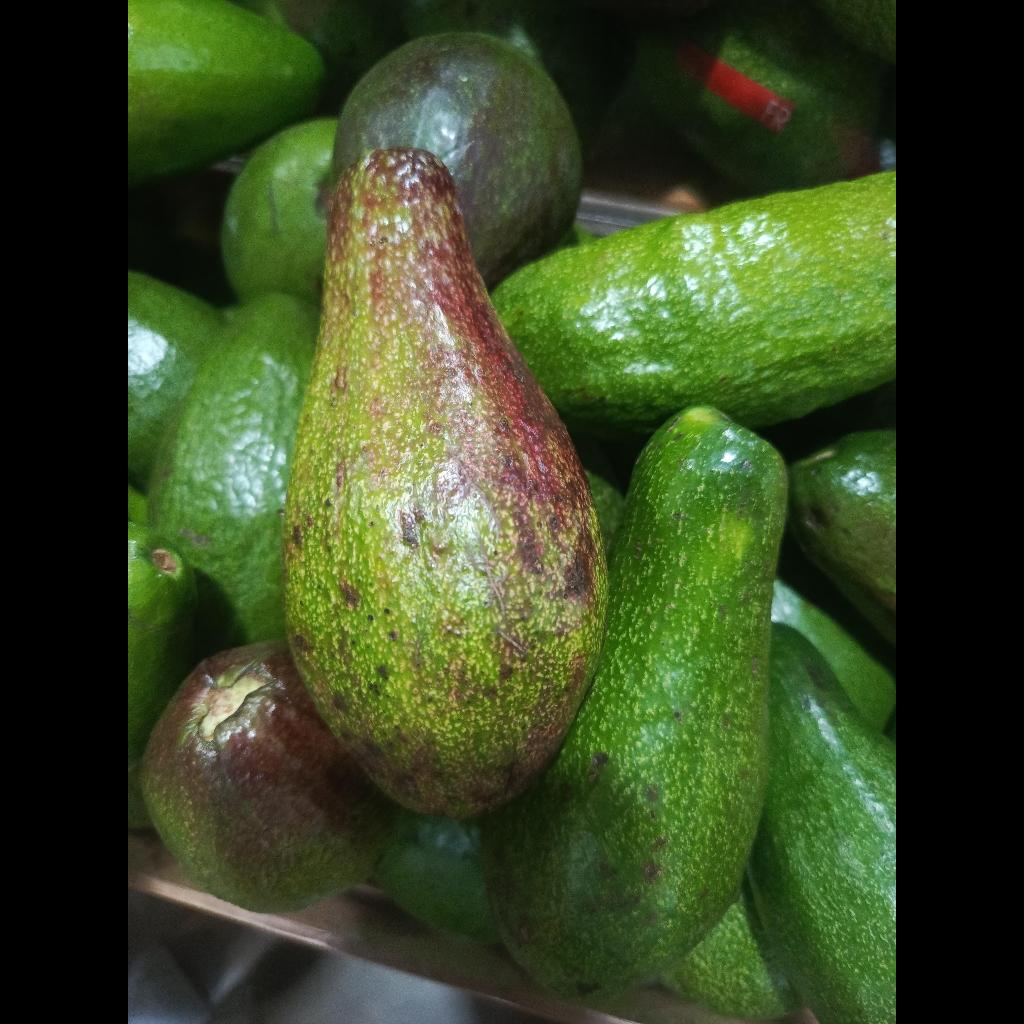anthracnose: (283, 147, 607, 817), (331, 32, 581, 291)
healthy: (482, 406, 786, 1001), (492, 172, 896, 439), (148, 294, 318, 657), (748, 624, 896, 1024), (128, 0, 324, 186)
scab: (482, 407, 786, 999)
stem end rot: (142, 641, 390, 912), (128, 522, 197, 759)
